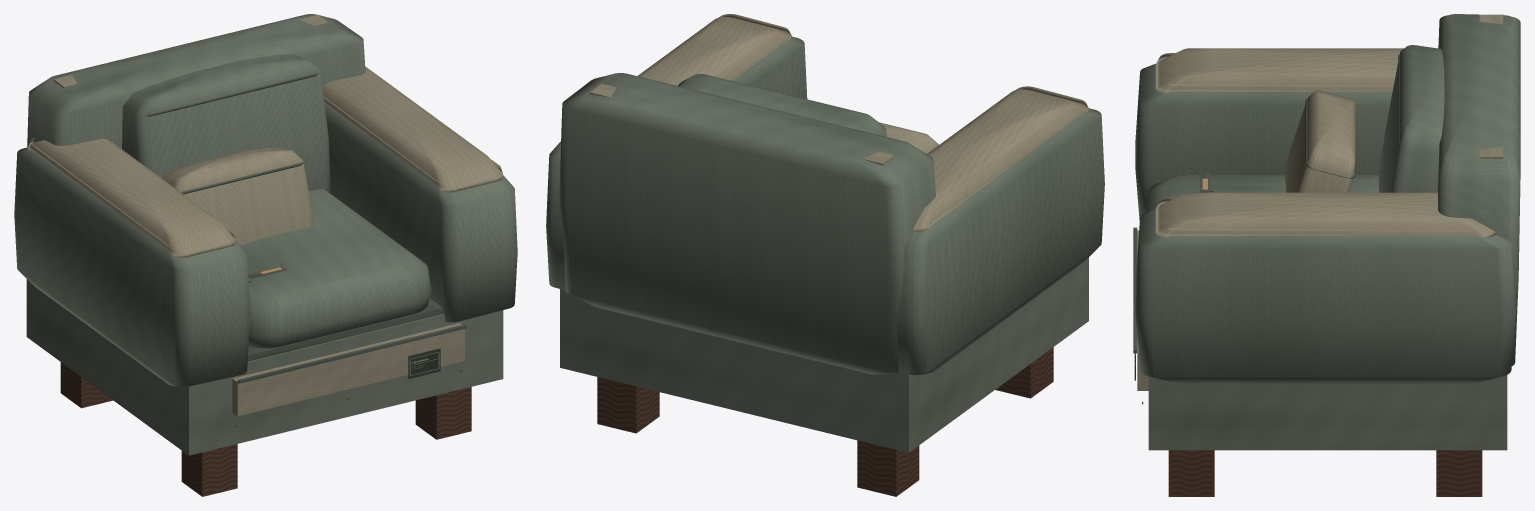
Rendered from PZ_FIELDHAVEN_Worn_Armchair.glb.
The picture shows the model from 3 angles, left to right: view 1: azimuth 30°, elevation 25°; view 2: azimuth 150°, elevation 25°; view 3: azimuth 270°, elevation 25°; orthographic projection. The views are drawn at different scales.
Parts seen in each view (by area): view 1: RENDER_Armchair_Arm_L_CushionedMain, RENDER_Armchair_Base_Upholstered_Box, RENDER_Armchair_Arm_R_CushionedMain, RENDER_Armchair_SeatCushion_A_REMOVABLE, RENDER_Armchair_BackCushion_A_REMOVABLE, RENDER_Armchair_RearBack_Solid_Carcass, RENDER_Armchair_Arm_L_TopWornRest, RENDER_Armchair_Arm_R_TopWornRest, RENDER_Armchair_Lumbar_Pillow_Loose_REMOVABLE, RENDER_Armchair_Front_Apron_Worn_Trim, RENDER_Armchair_Foot_L_Front_Walnut, RENDER_Armchair_Foot_R_Front_Walnut (+5 smaller); view 2: RENDER_Armchair_RearBack_Solid_Carcass, RENDER_Armchair_Base_Upholstered_Box, RENDER_Armchair_Arm_L_CushionedMain, RENDER_Armchair_Arm_L_TopWornRest, RENDER_Armchair_Arm_R_TopWornRest, RENDER_Armchair_Arm_R_CushionedMain, RENDER_Armchair_BackCushion_A_REMOVABLE, RENDER_Armchair_Foot_L_Rear_Walnut, RENDER_Armchair_Foot_R_Rear_Walnut, RENDER_Armchair_Foot_L_Front_Walnut, RENDER_Armchair_Lumbar_Pillow_Loose_REMOVABLE; view 3: RENDER_Armchair_Arm_R_CushionedMain, RENDER_Armchair_Base_Upholstered_Box, RENDER_Armchair_Arm_L_CushionedMain, RENDER_Armchair_RearBack_Solid_Carcass, RENDER_Armchair_Arm_R_TopWornRest, RENDER_Armchair_Arm_L_TopWornRest, RENDER_Armchair_BackCushion_A_REMOVABLE, RENDER_Armchair_Lumbar_Pillow_Loose_REMOVABLE, RENDER_Armchair_SeatCushion_A_REMOVABLE, RENDER_Armchair_Foot_R_Front_Walnut, RENDER_Armchair_Foot_R_Rear_Walnut, RENDER_Armchair_Front_Skirting_Seam (+1 smaller).
Part boxes in pixels (<box>): RENDER_Armchair_Arm_L_CushionedMain: <box>14,147,249,386</box>; RENDER_Armchair_Base_Upholstered_Box: <box>26,279,503,455</box>; RENDER_Armchair_Arm_R_CushionedMain: <box>324,104,517,322</box>; RENDER_Armchair_SeatCushion_A_REMOVABLE: <box>240,189,431,348</box>; RENDER_Armchair_BackCushion_A_REMOVABLE: <box>122,54,330,193</box>; RENDER_Armchair_RearBack_Solid_Carcass: <box>27,14,365,148</box>; RENDER_Armchair_Arm_L_TopWornRest: <box>28,138,235,257</box>; RENDER_Armchair_Arm_R_TopWornRest: <box>322,66,503,192</box>; RENDER_Armchair_Lumbar_Pillow_Loose_REMOVABLE: <box>162,147,313,245</box>; RENDER_Armchair_Front_Apron_Worn_Trim: <box>232,323,464,416</box>; RENDER_Armchair_Foot_L_Front_Walnut: <box>181,444,237,496</box>; RENDER_Armchair_Foot_R_Front_Walnut: <box>415,387,471,439</box>; RENDER_Armchair_RearBack_Solid_Carcass: <box>559,73,935,374</box>; RENDER_Armchair_Base_Upholstered_Box: <box>560,257,1088,452</box>; RENDER_Armchair_Arm_L_CushionedMain: <box>896,108,1104,375</box>; RENDER_Armchair_Arm_L_TopWornRest: <box>913,86,1089,231</box>; RENDER_Armchair_Arm_R_TopWornRest: <box>637,14,792,85</box>; RENDER_Armchair_Arm_R_CushionedMain: <box>546,36,807,290</box>; RENDER_Armchair_BackCushion_A_REMOVABLE: <box>678,74,886,136</box>; RENDER_Armchair_Foot_L_Rear_Walnut: <box>857,440,919,496</box>; RENDER_Armchair_Foot_R_Rear_Walnut: <box>597,377,659,433</box>; RENDER_Armchair_Foot_L_Front_Walnut: <box>995,347,1053,398</box>; RENDER_Armchair_Lumbar_Pillow_Loose_REMOVABLE: <box>879,122,938,153</box>; RENDER_Armchair_Arm_R_CushionedMain: <box>1135,208,1515,383</box>; RENDER_Armchair_Base_Upholstered_Box: <box>1148,375,1507,450</box>; RENDER_Armchair_Arm_L_CushionedMain: <box>1135,63,1392,220</box>; RENDER_Armchair_RearBack_Solid_Carcass: <box>1437,14,1520,365</box>; RENDER_Armchair_Arm_R_TopWornRest: <box>1155,192,1496,237</box>; RENDER_Armchair_Arm_L_TopWornRest: <box>1155,48,1403,93</box>; RENDER_Armchair_BackCushion_A_REMOVABLE: <box>1378,45,1444,192</box>; RENDER_Armchair_Lumbar_Pillow_Loose_REMOVABLE: <box>1283,90,1355,192</box>; RENDER_Armchair_SeatCushion_A_REMOVABLE: <box>1145,175,1378,212</box>; RENDER_Armchair_Foot_R_Front_Walnut: <box>1168,450,1214,496</box>; RENDER_Armchair_Foot_R_Rear_Walnut: <box>1436,450,1482,496</box>; RENDER_Armchair_Front_Skirting_Seam: <box>1133,227,1137,353</box>.
Bounding box in the file's own units: 1.02 × 0.8874 × 0.9067.
Materials: 7 (7 with a texture image).
